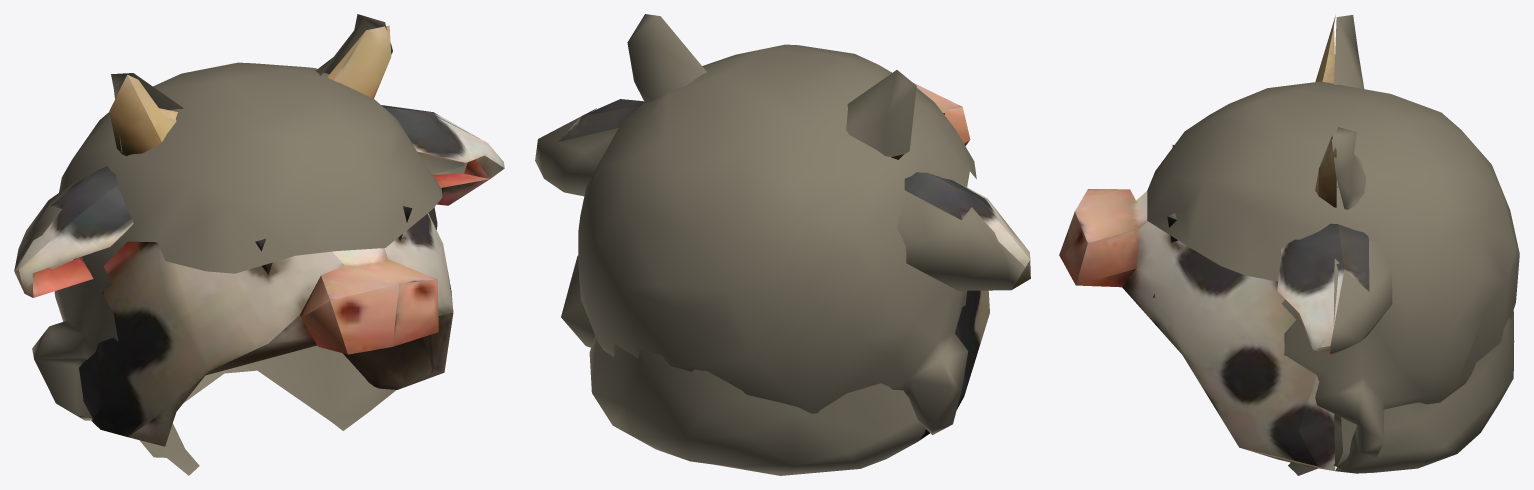
File: cow.glb
3 views of the same model, side by side, from view 1: azimuth 30°, elevation 25°; view 2: azimuth 150°, elevation 25°; view 3: azimuth 270°, elevation 25° (orthographic). The views are drawn at different scales.
Visible parts, largest first — view 1: geometry_0, HoodAnatomicalLining; view 2: HoodAnatomicalLining, geometry_0; view 3: HoodAnatomicalLining, geometry_0.
Part boxes in pixels (x1,y1,x2,y2): geometry_0: (14, 14, 504, 446); HoodAnatomicalLining: (32, 62, 442, 475); HoodAnatomicalLining: (561, 44, 976, 434); geometry_0: (535, 14, 1030, 475); HoodAnatomicalLining: (1147, 81, 1519, 475); geometry_0: (1059, 15, 1514, 473).
Bounding box in the file's own units: 0.5744 × 0.4419 × 0.4973.
Materials: 2 (1 with a texture image).
